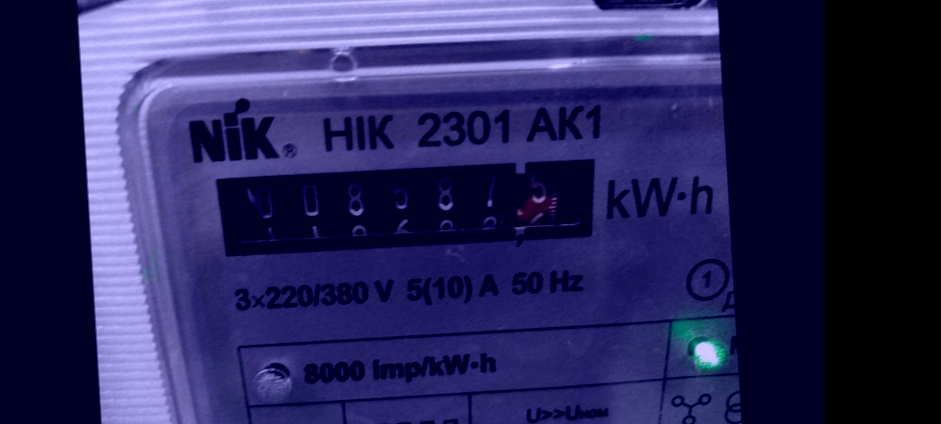0: (297, 179, 323, 220)
1: (251, 181, 277, 224)
5: (525, 166, 551, 208), (387, 174, 413, 214)
7: (476, 170, 502, 212)
8: (341, 178, 368, 220), (432, 173, 456, 215)
screen: (194, 137, 618, 280)
